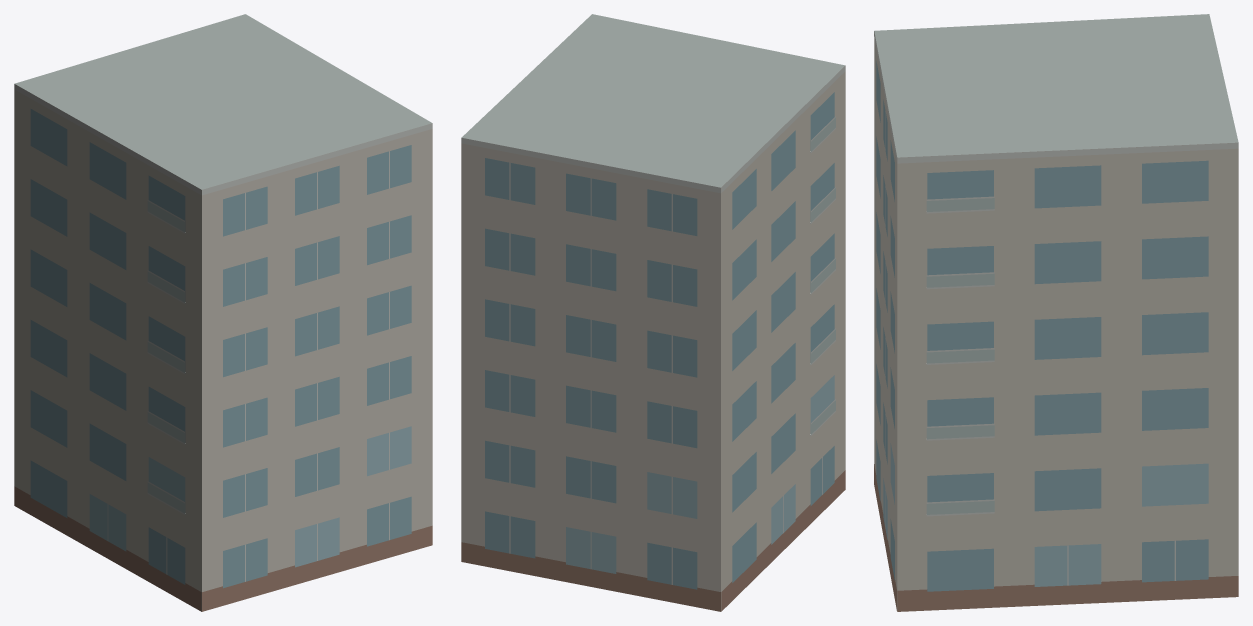
File: survey-upis-32570519.glb
3 renders of one model, left to right at view 1: azimuth 30°, elevation 25°; view 2: azimuth 150°, elevation 25°; view 3: azimuth 270°, elevation 25°, orthographic. The views are drawn at different scales.
Parts seen in each view (by area): view 1: survey-upis-32570519.tmp; view 2: survey-upis-32570519.tmp; view 3: survey-upis-32570519.tmp.
Part boxes in pixels (bbox=[...]): survey-upis-32570519.tmp: bbox=[14, 14, 432, 611]; survey-upis-32570519.tmp: bbox=[461, 14, 845, 611]; survey-upis-32570519.tmp: bbox=[874, 14, 1238, 611].
Size of the model in its own units: 12.41 by 18.3 by 13.31.
